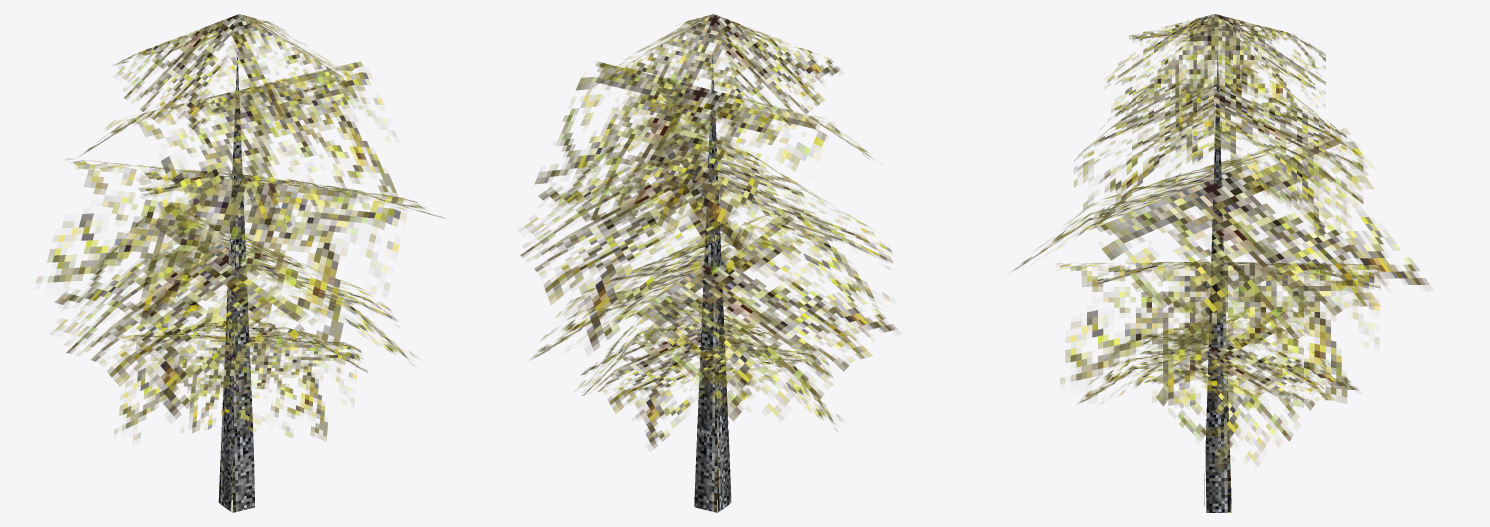
Rendered from Environment - Vegetation - Tree Cherry Blossom 02 - PTOakFall8.glb.
3 renders of one model, left to right at view 1: azimuth 30°, elevation 25°; view 2: azimuth 150°, elevation 25°; view 3: azimuth 270°, elevation 25°, orthographic.
Visible parts, largest first — view 1: PTOAKFALL8; view 2: PTOAKFALL8; view 3: PTOAKFALL8.
Part boxes in pixels (bbox=[...]): PTOAKFALL8: bbox=[36, 14, 444, 512]; PTOAKFALL8: bbox=[520, 14, 896, 512]; PTOAKFALL8: bbox=[1012, 14, 1429, 512].
Size of the model in its own units: 30.03 by 31.89 by 30.03.
1 material, 1 textured.
